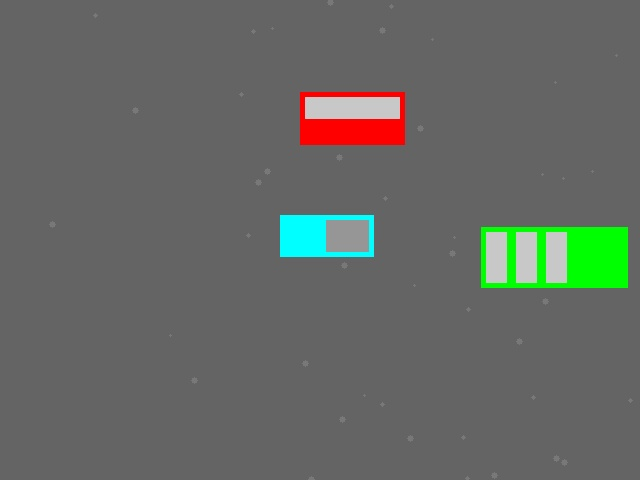bus: (481, 227, 627, 287)
car: (300, 92, 404, 144)
truck: (280, 215, 373, 256)
